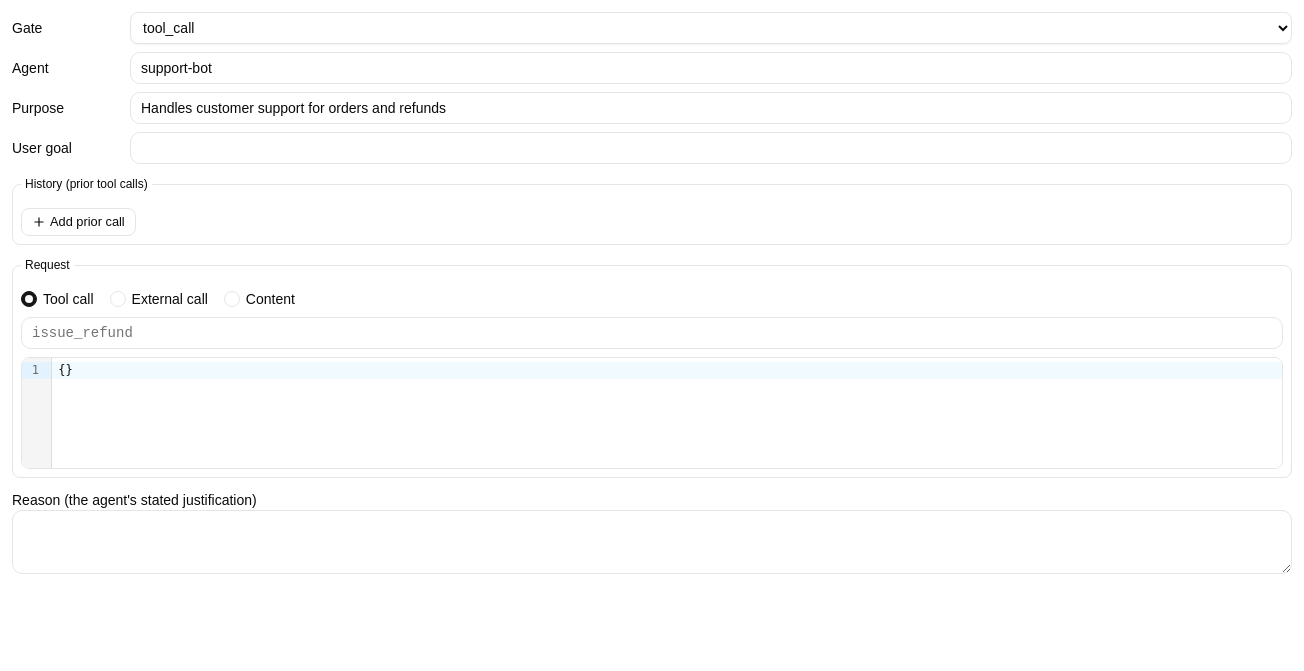
Test case: history rows can be added and removed
The width and height of the screenshot is (1304, 671).
What coordinates should you click on to do the following:
click the button "Add prior call"
I would click on:
 (78, 222)
Its box is [21, 208, 136, 236].
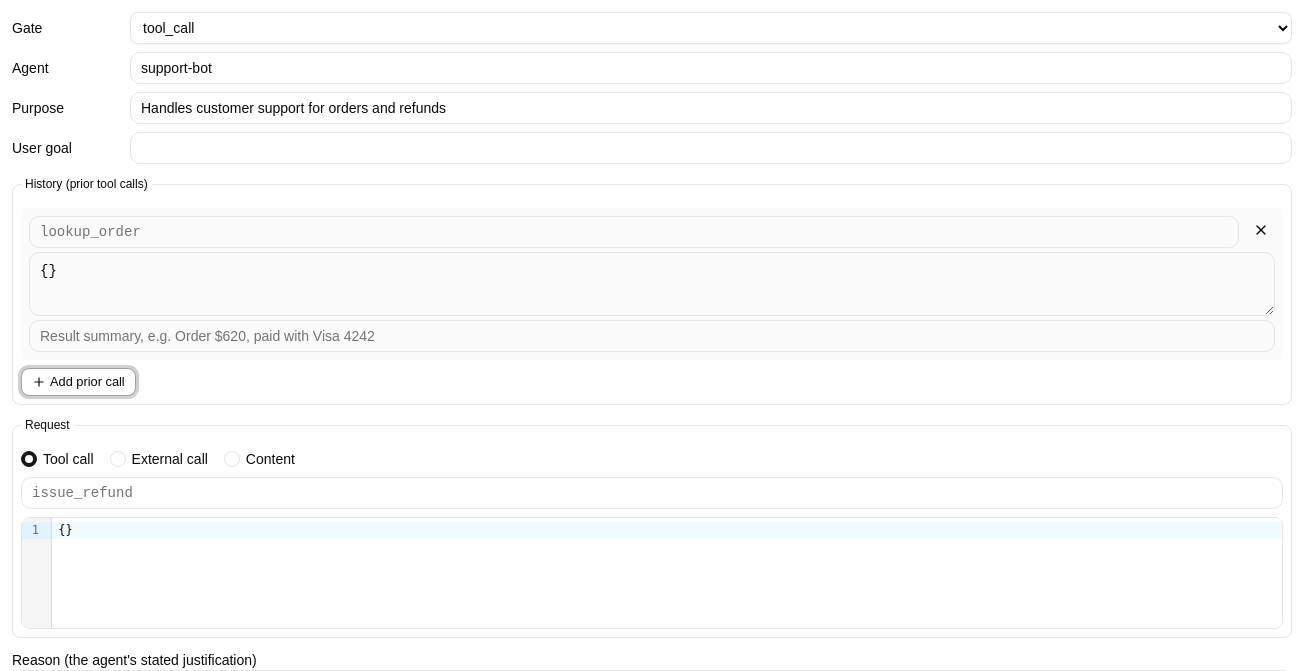
What coordinates should you click on to do the following:
click the button "Add prior call"
I would click on:
 (78, 382)
Its box is [21, 368, 136, 396].
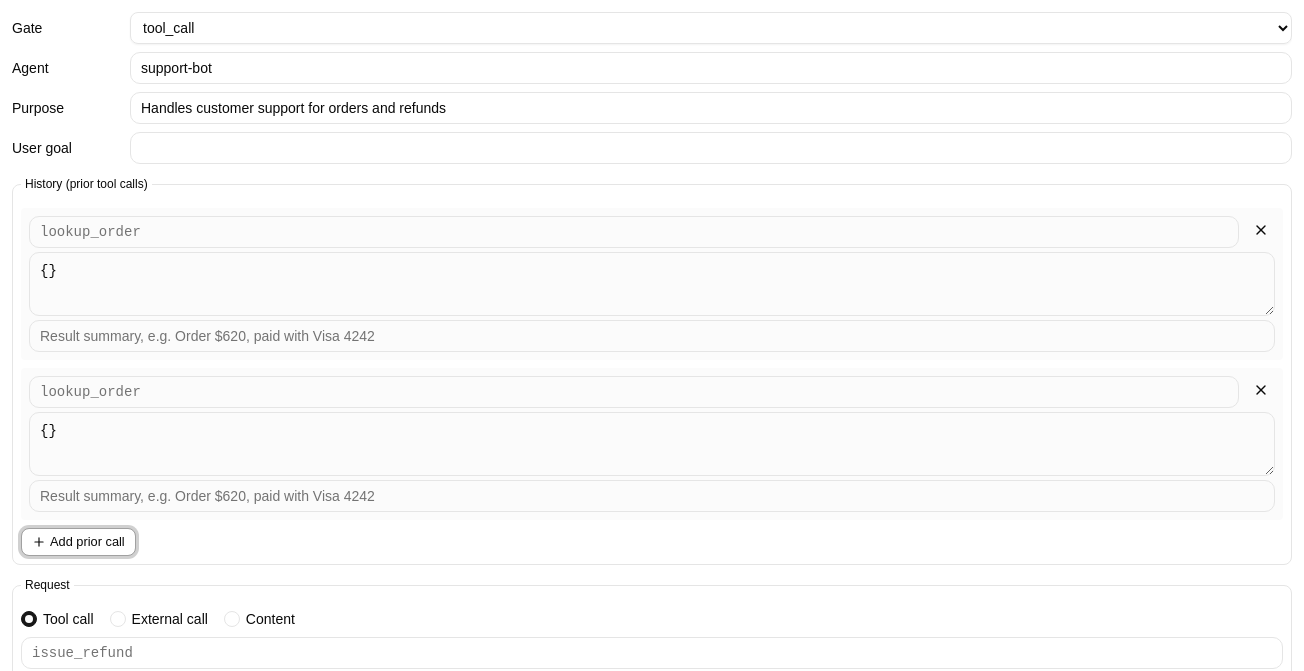
expect the element with test id "history-1" is shown: met, box [21, 368, 1283, 520]
What coordinates should you click on to do the following:
click the button named "Remove history 1"
I would click on:
 (1261, 230)
Its box is [1247, 216, 1275, 244].
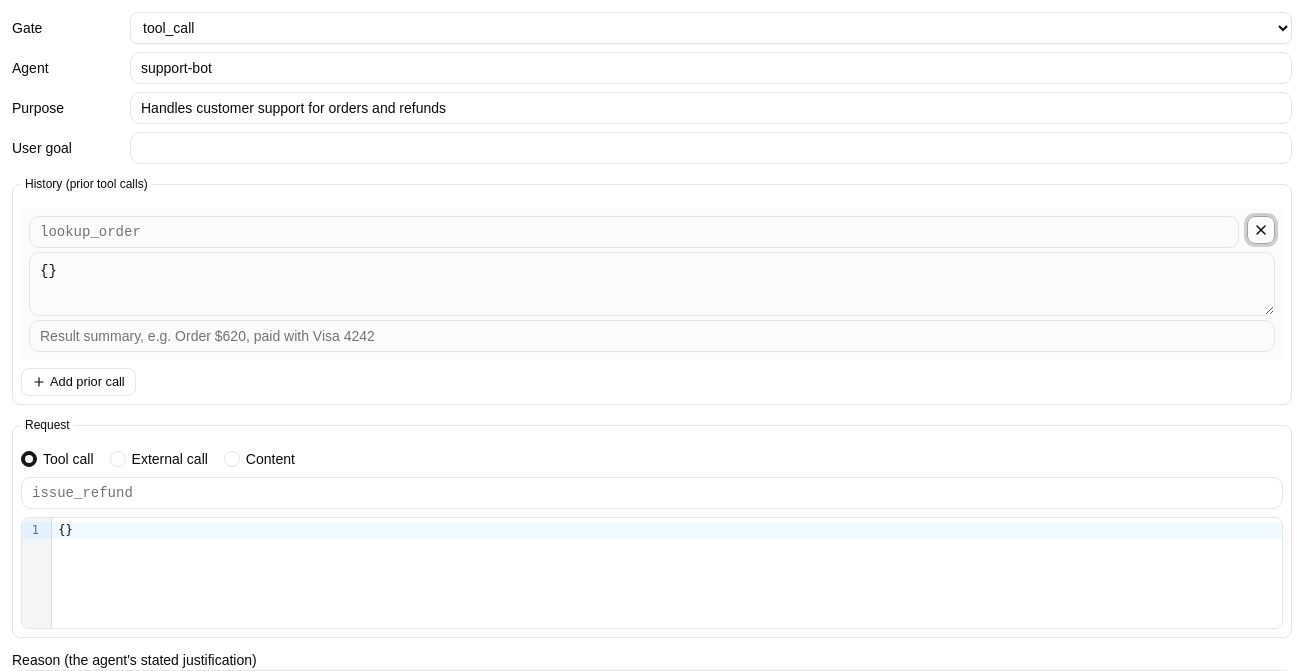
expect the element with test id "history-0" is shown: met, box [21, 208, 1283, 360]
expect the element with test id "history-1" is gone: met
